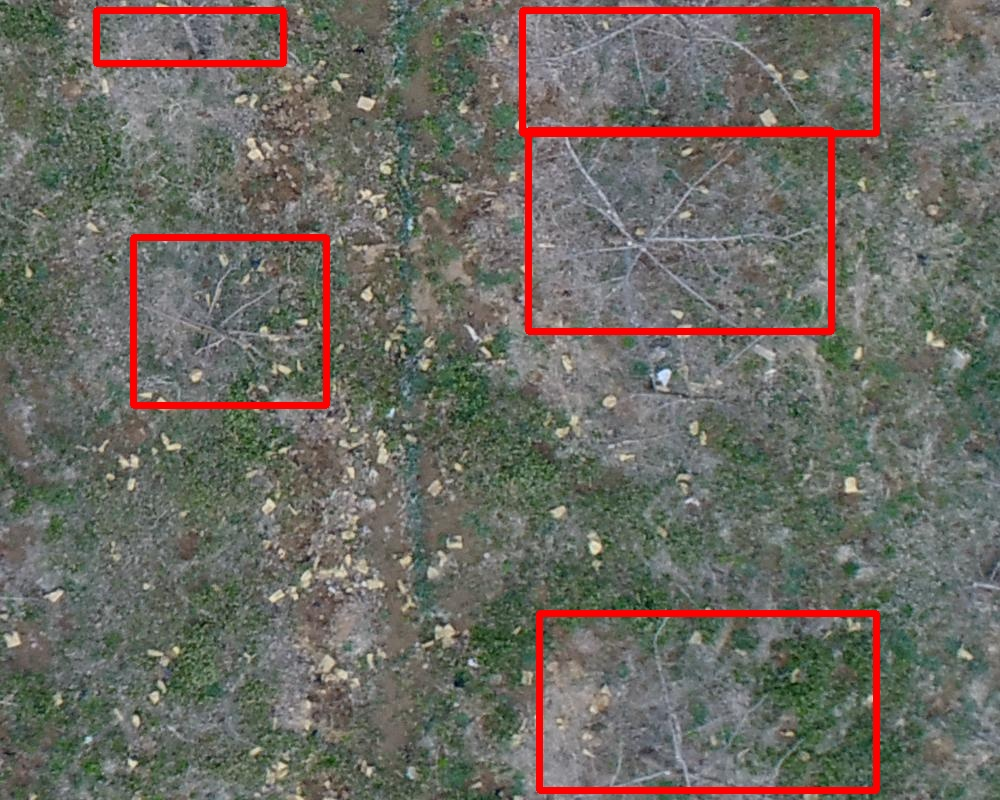apple: (528, 130, 831, 331), (539, 613, 876, 790), (522, 10, 876, 133), (133, 237, 326, 405), (96, 10, 283, 63)
